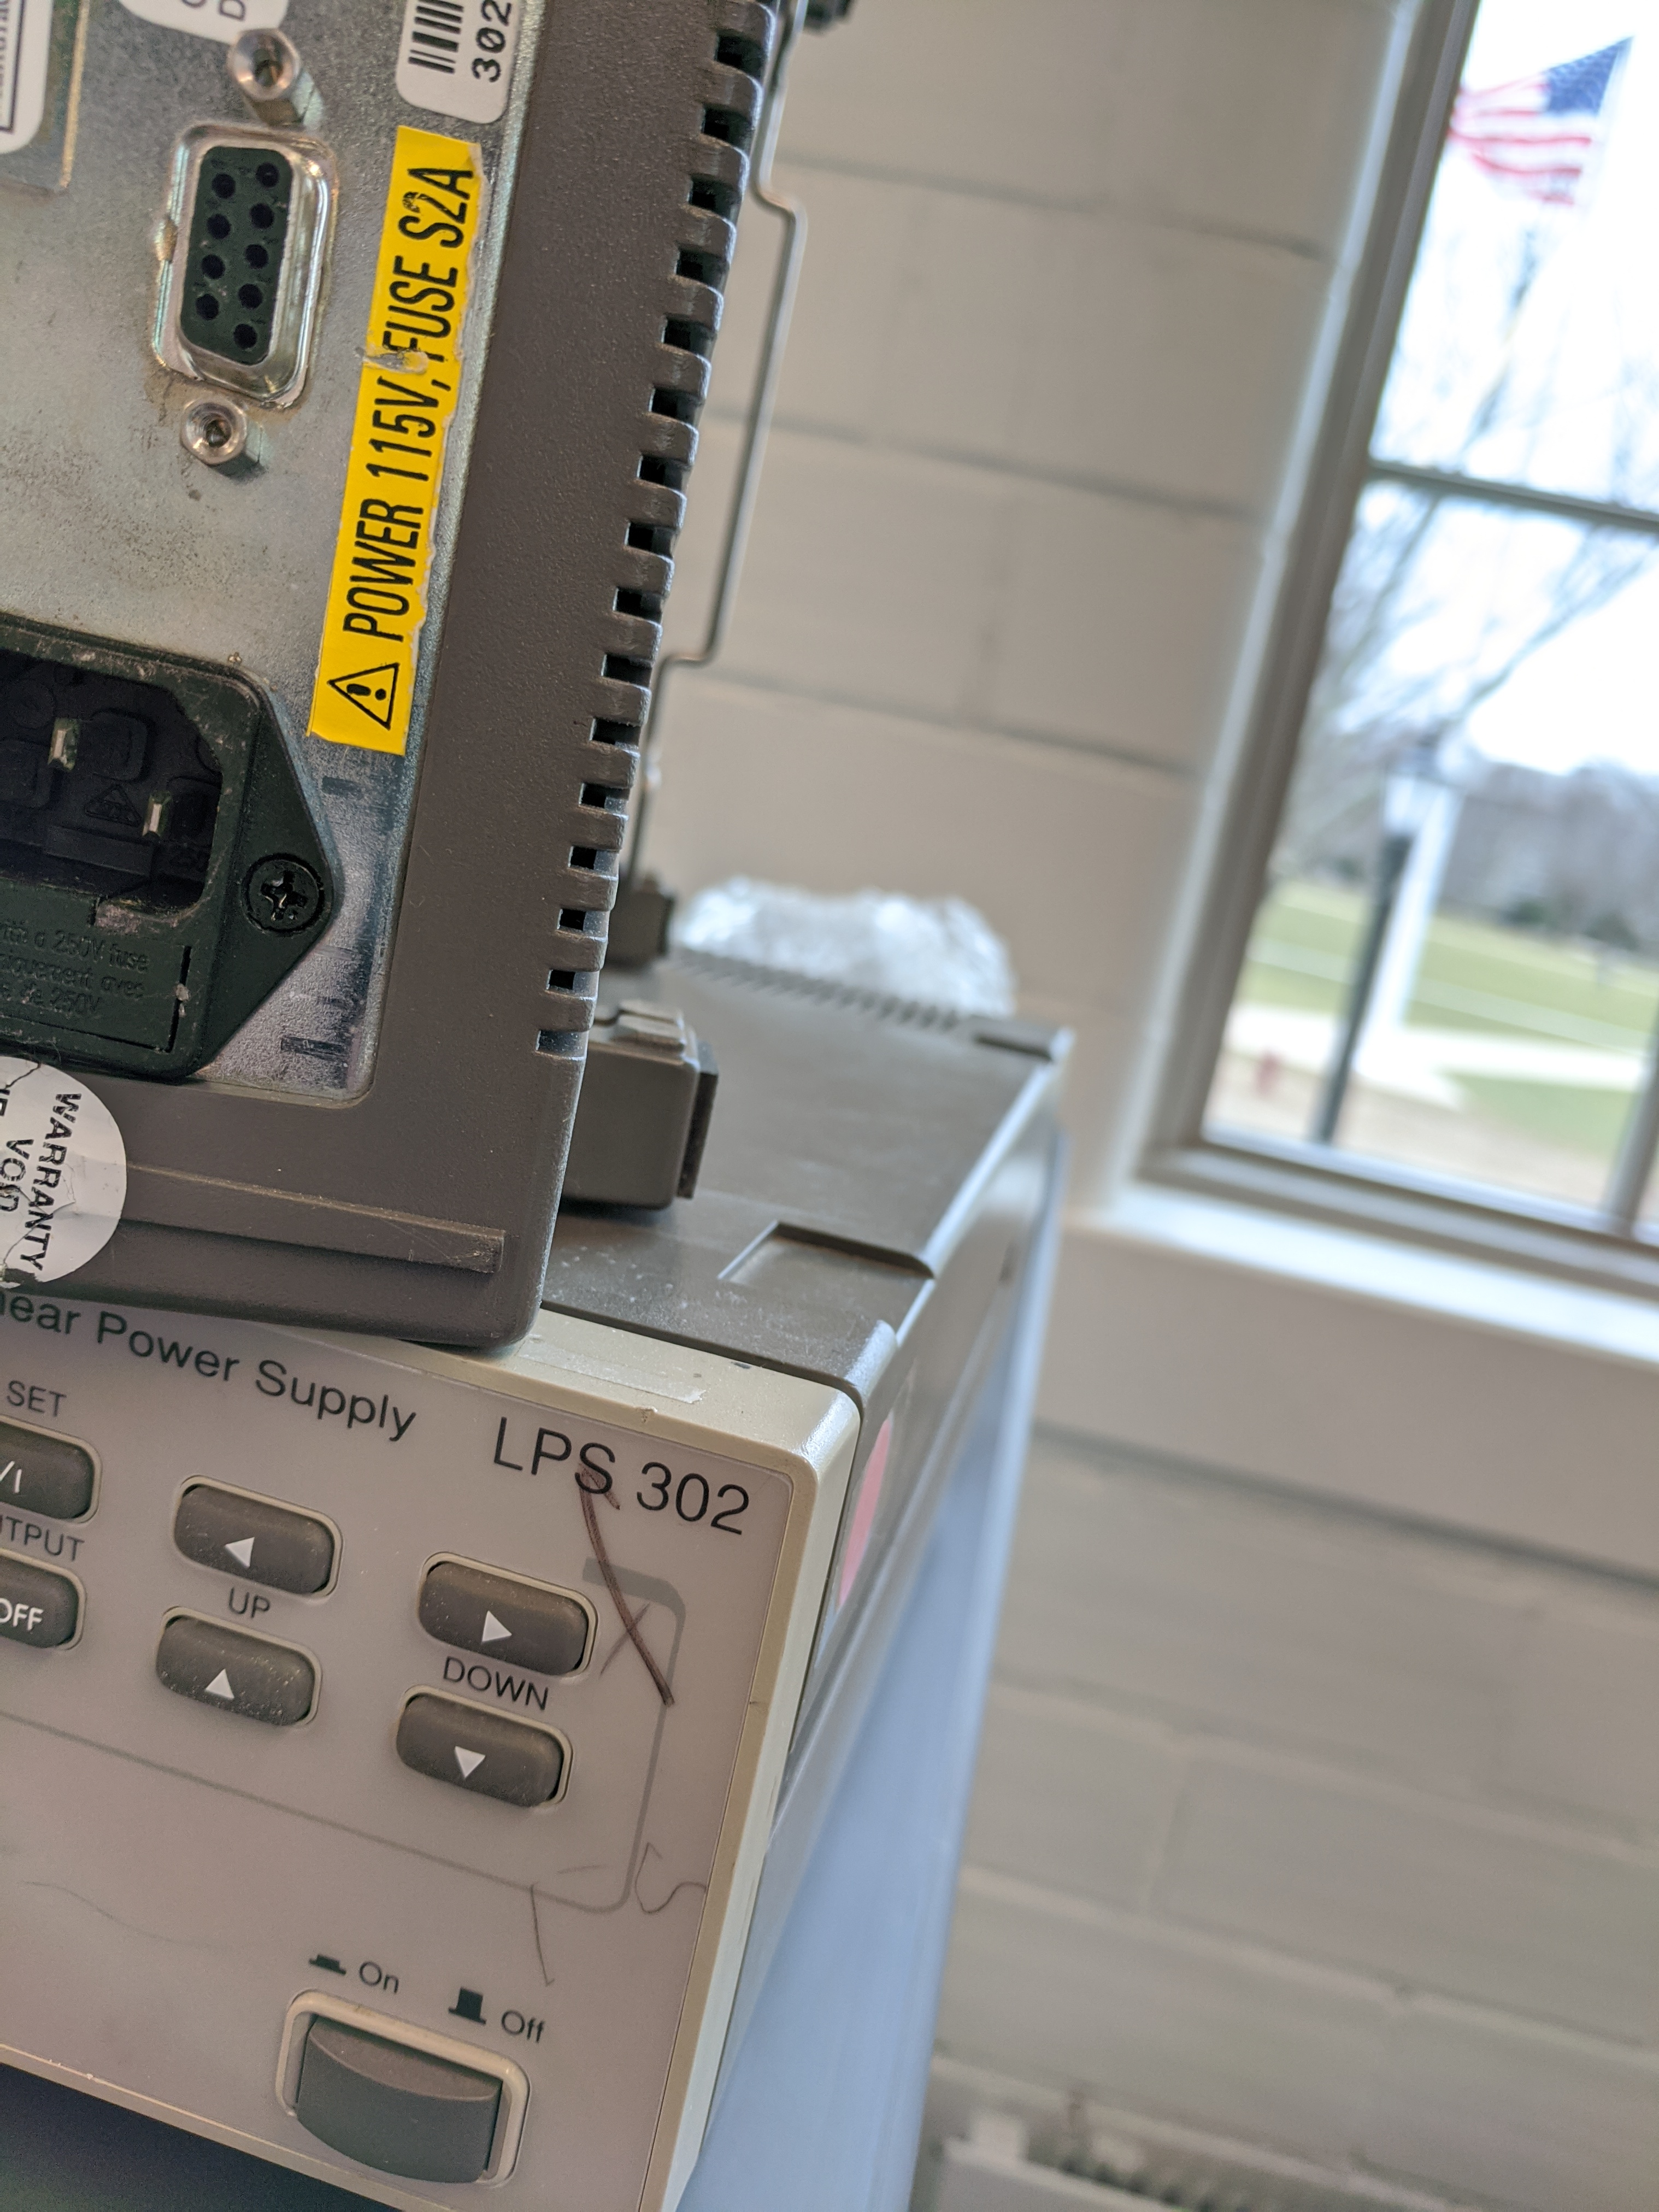cross_recessed_screw: (244, 841, 319, 923)
